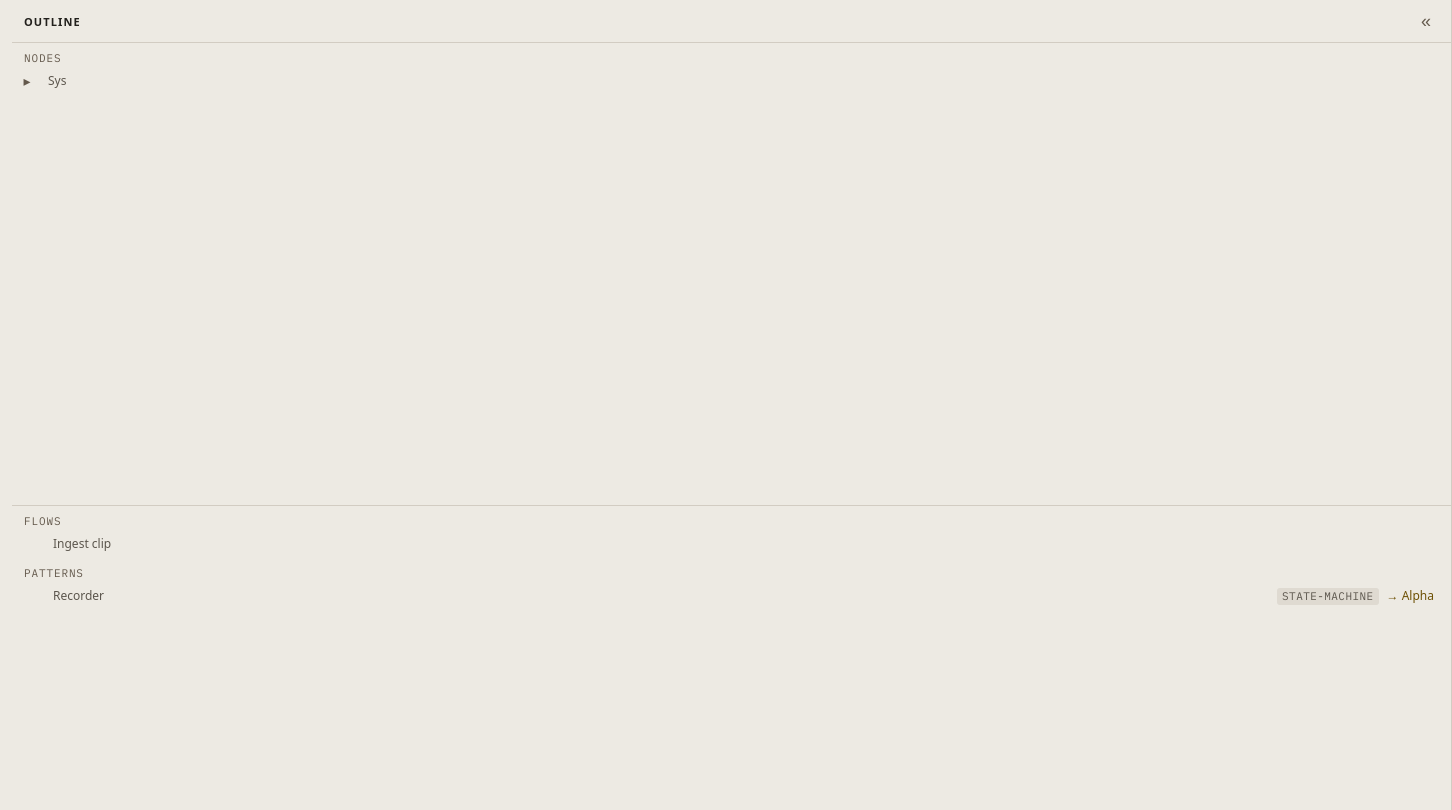
Test: TreePanel — patterns › selects a pattern and shows its anchor and members
This screenshot has width=1452, height=810.
Step 1. Click the button "Recorder" → click(79, 596), box [48,588,1274,605]
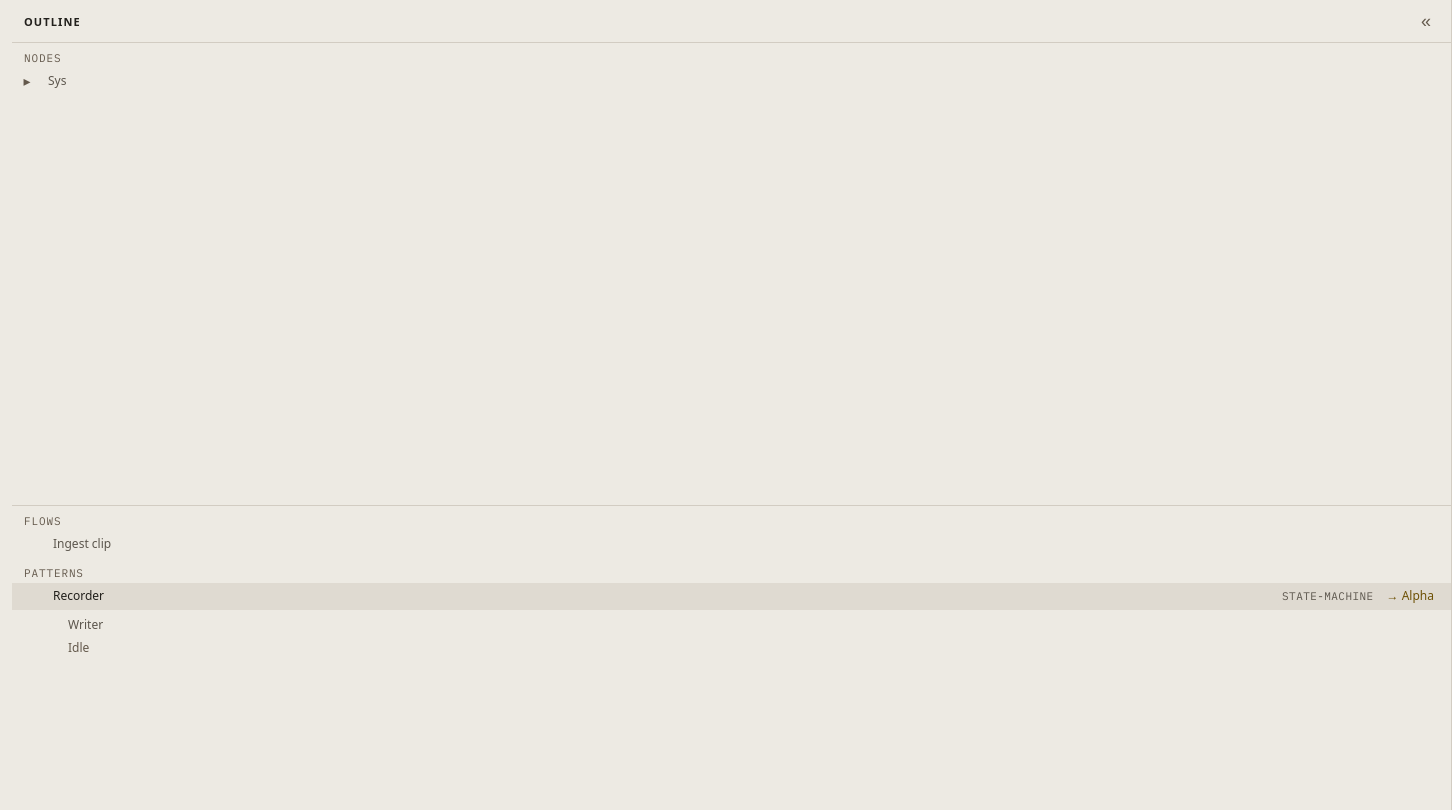
Expected: the button with class "tree-anchor" shows "Alpha", [1382,588,1439,605]
Result: the button "Writer" is shown at [63,616,108,633]
Result: the text "Idle" is shown at [68,639,89,656]
